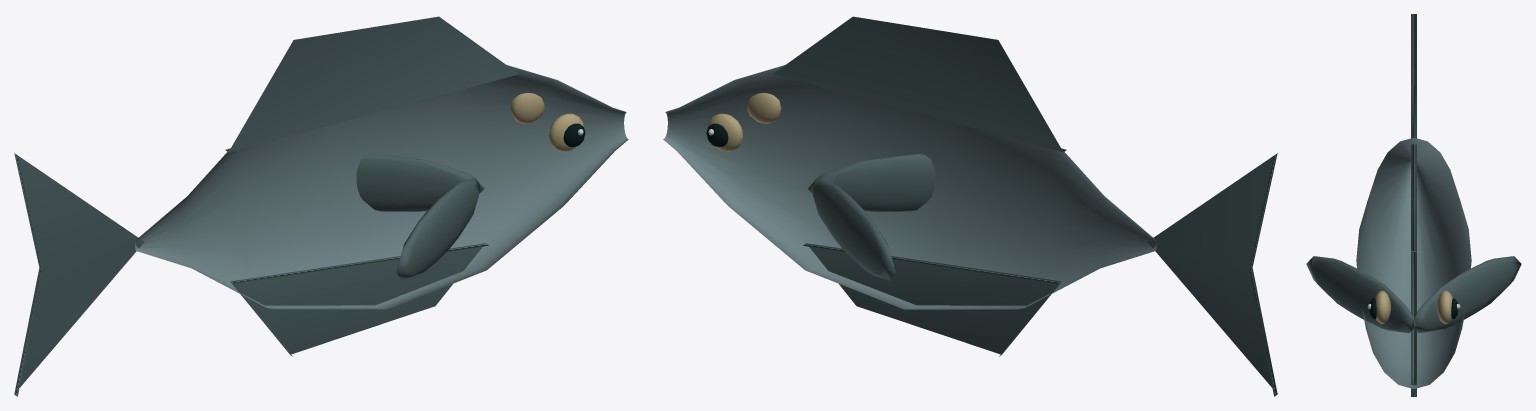
File: fish-lagoon.glb
3 renders of one model, left to right at view 1: azimuth 30°, elevation 25°; view 2: azimuth 150°, elevation 25°; view 3: azimuth 270°, elevation 25°, orthographic. The views are drawn at different scales.
Parts seen in each view (by area): view 1: Original authored part; view 2: Original authored part; view 3: Original authored part.
Part boxes in pixels (x1=…): Original authored part: x1=14, y1=16, x2=628, y2=396; Original authored part: x1=663, y1=16, x2=1277, y2=396; Original authored part: x1=1306, y1=14, x2=1521, y2=396.
Bounding box in the file's own units: 1.22 × 0.6049 × 0.4484.
